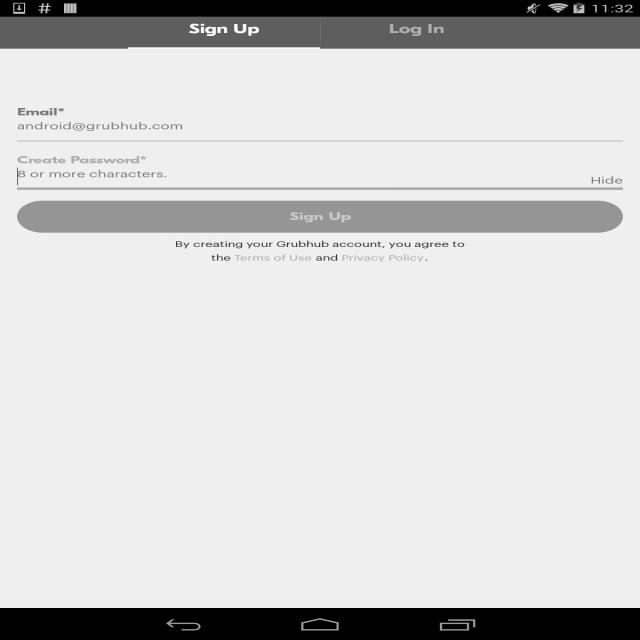Button: (17, 200, 623, 232)
EditText: (17, 118, 623, 142), (17, 166, 623, 190)
TextView: (17, 88, 623, 100), (175, 238, 465, 249), (189, 21, 259, 44), (17, 154, 147, 166), (389, 21, 444, 44), (342, 252, 424, 262), (234, 252, 313, 262), (17, 106, 65, 118), (313, 252, 342, 262), (211, 252, 234, 262), (425, 252, 428, 262)
